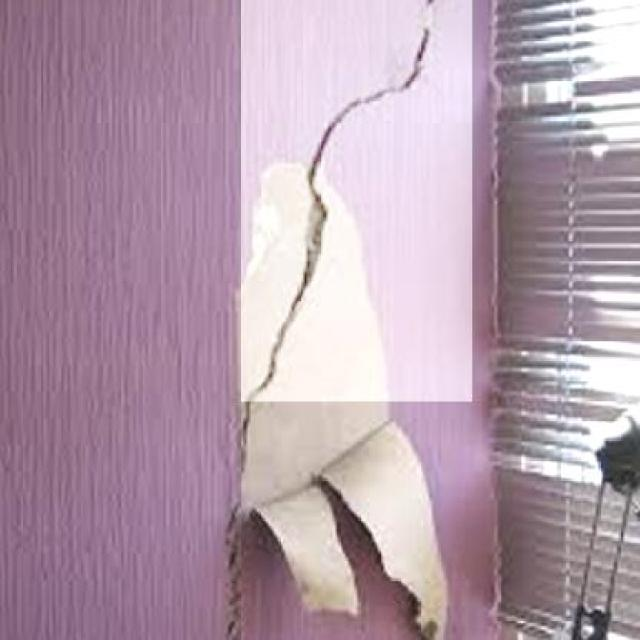Crack: (238, 0, 455, 405)
